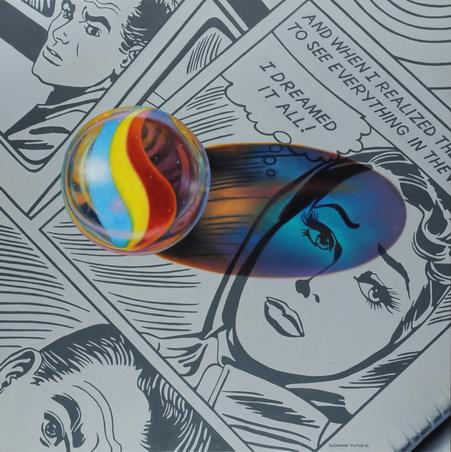person: (140, 146, 451, 452), (7, 1, 181, 168), (3, 322, 221, 452)
